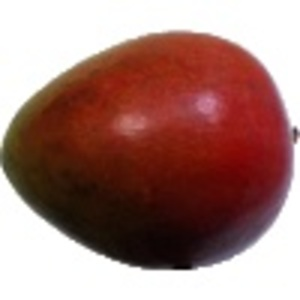manga: (1, 29, 300, 270)
